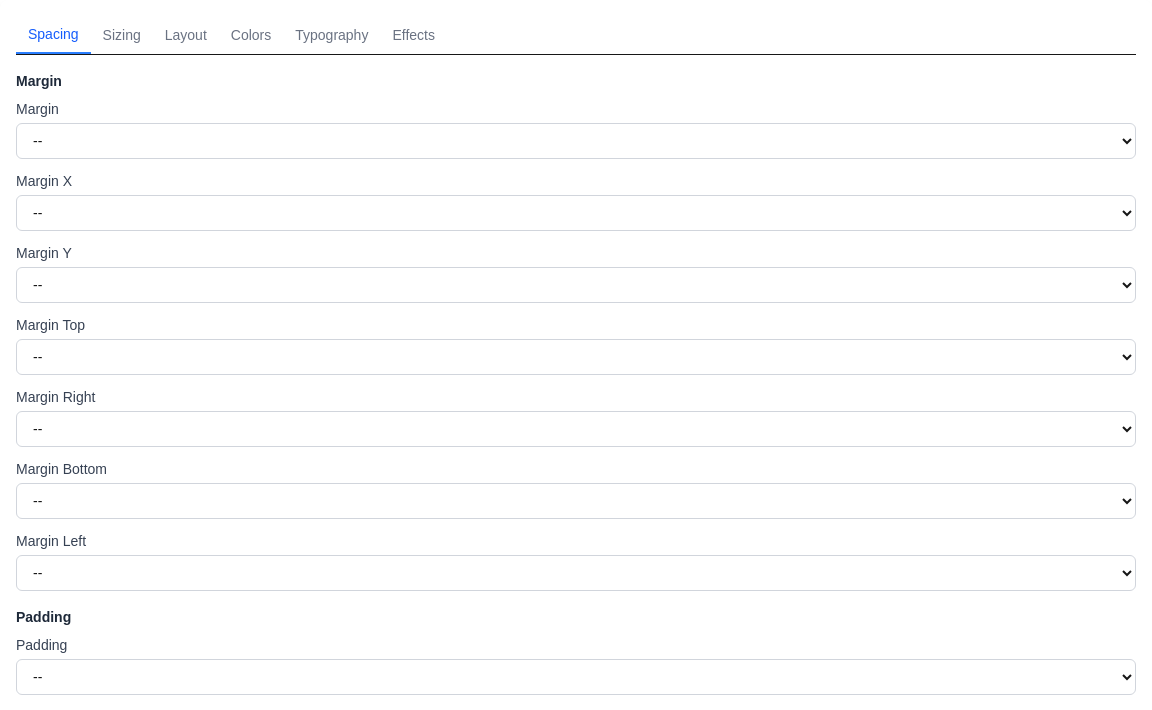
Test: TailwindClassEditor › tab navigation › switches to Sizing tab on click
The image size is (1152, 710).
Step 1. Click the tab "Sizing" → (122, 35), box [91,16,153,54]
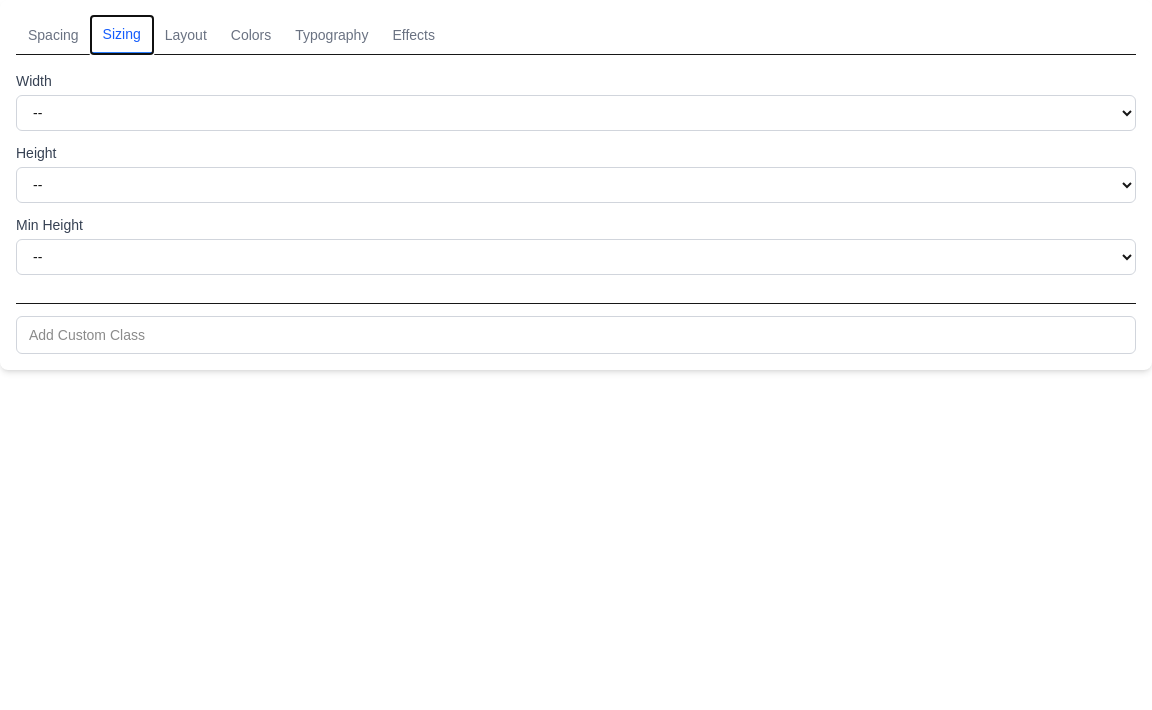
Expected: the dropdown labelled "Width" is shown, [16,95,1136,131]
